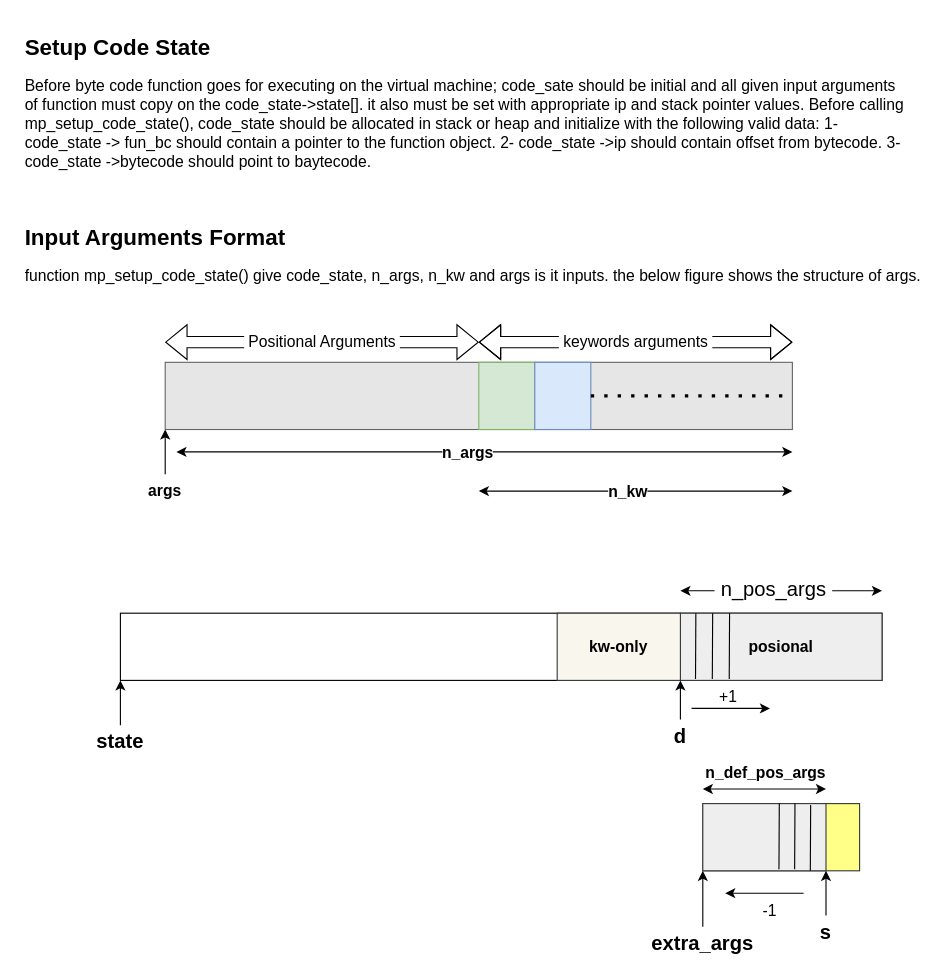
Image size: 945x979. Some labels were removed from this diagram. The shapes that lost their labels are listed below. From the top down, each one's centre as x and y in pixels, then its label:
At point 506,395: "Name0, Value0".
At point 562,395: "Name1, Value1".
